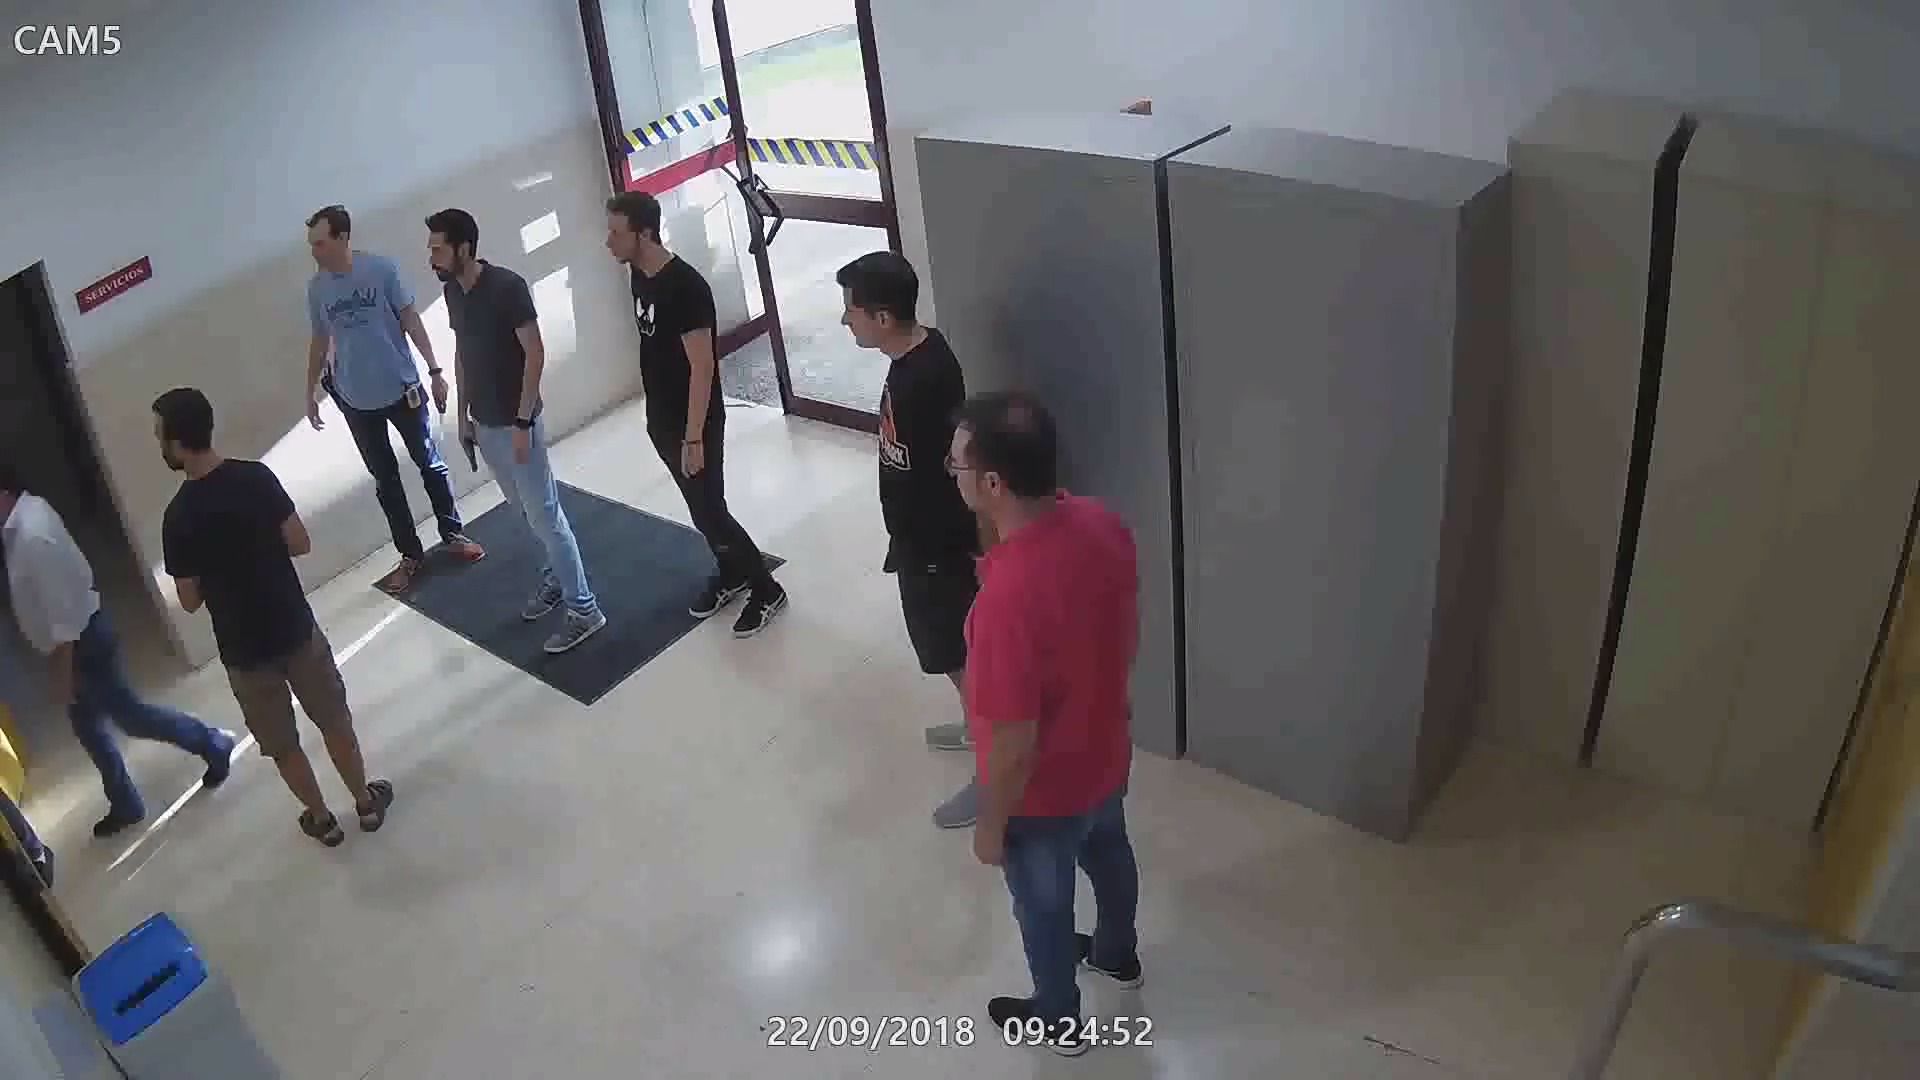Handgun: (452, 411, 491, 477), (313, 352, 343, 413), (880, 524, 898, 574)
Knife: (426, 375, 452, 452)
